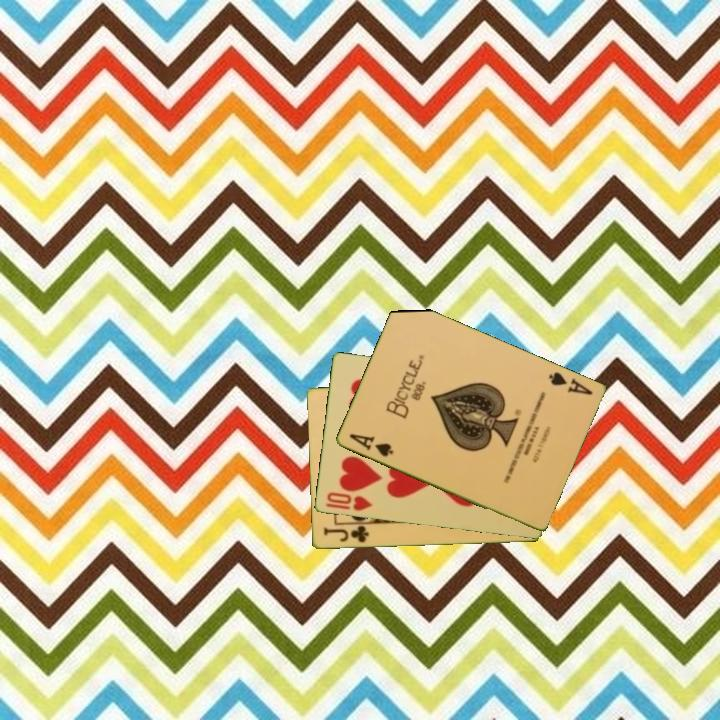10h: (323, 489, 375, 514)
As: (345, 430, 396, 460), (544, 369, 595, 398)
Jc: (320, 522, 372, 546)
